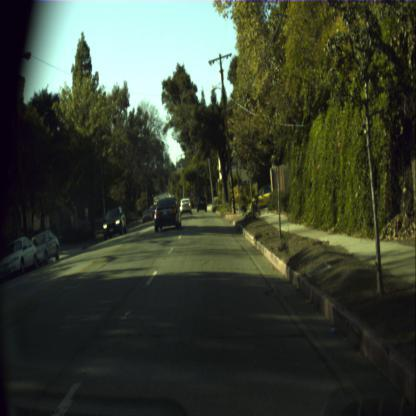Red: (166, 185, 168, 188)
